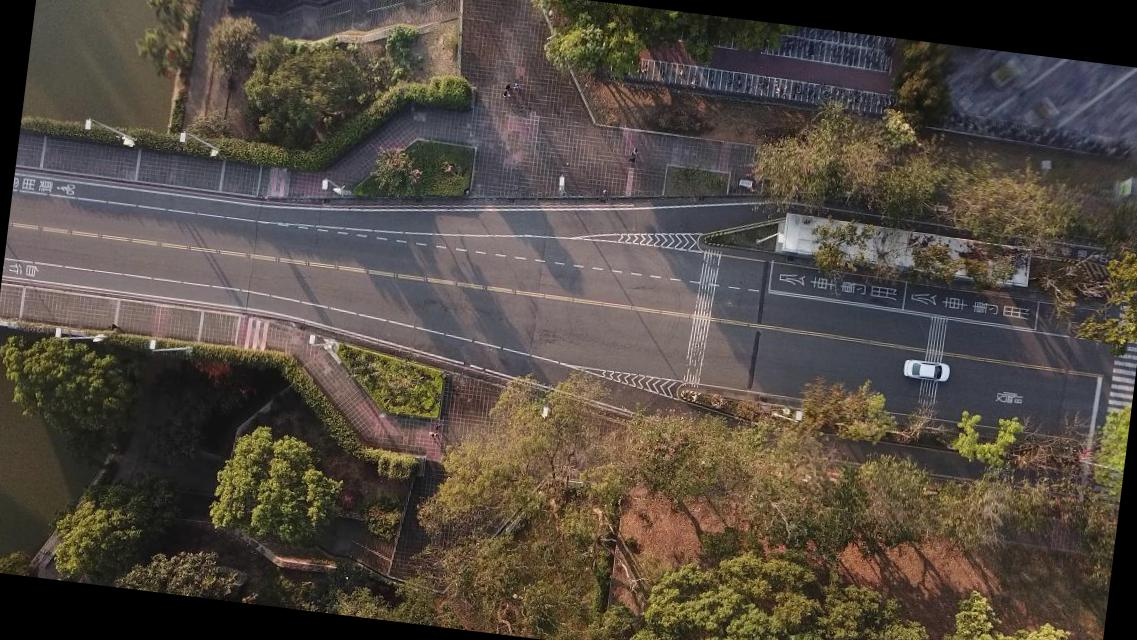vehicle: (900, 357, 950, 383)
